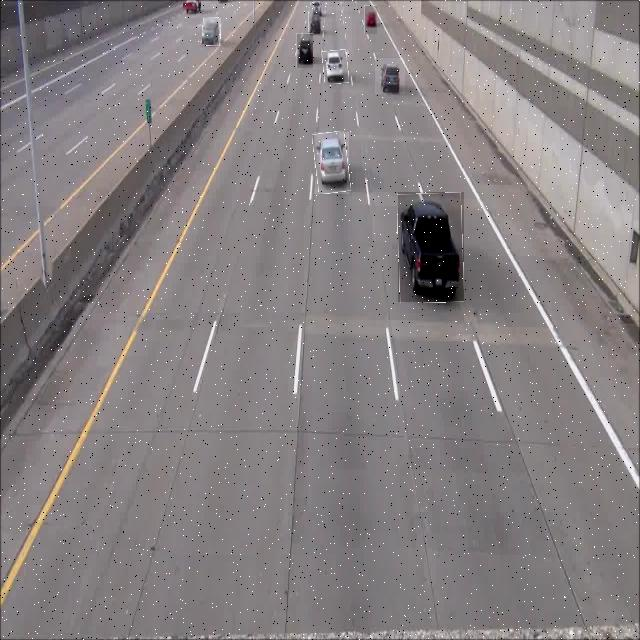Car: (314, 132, 349, 194), (375, 59, 405, 95), (323, 49, 348, 84), (296, 33, 313, 68), (203, 18, 221, 46), (364, 5, 377, 34), (308, 12, 325, 32)
Truck: (398, 192, 464, 302)
